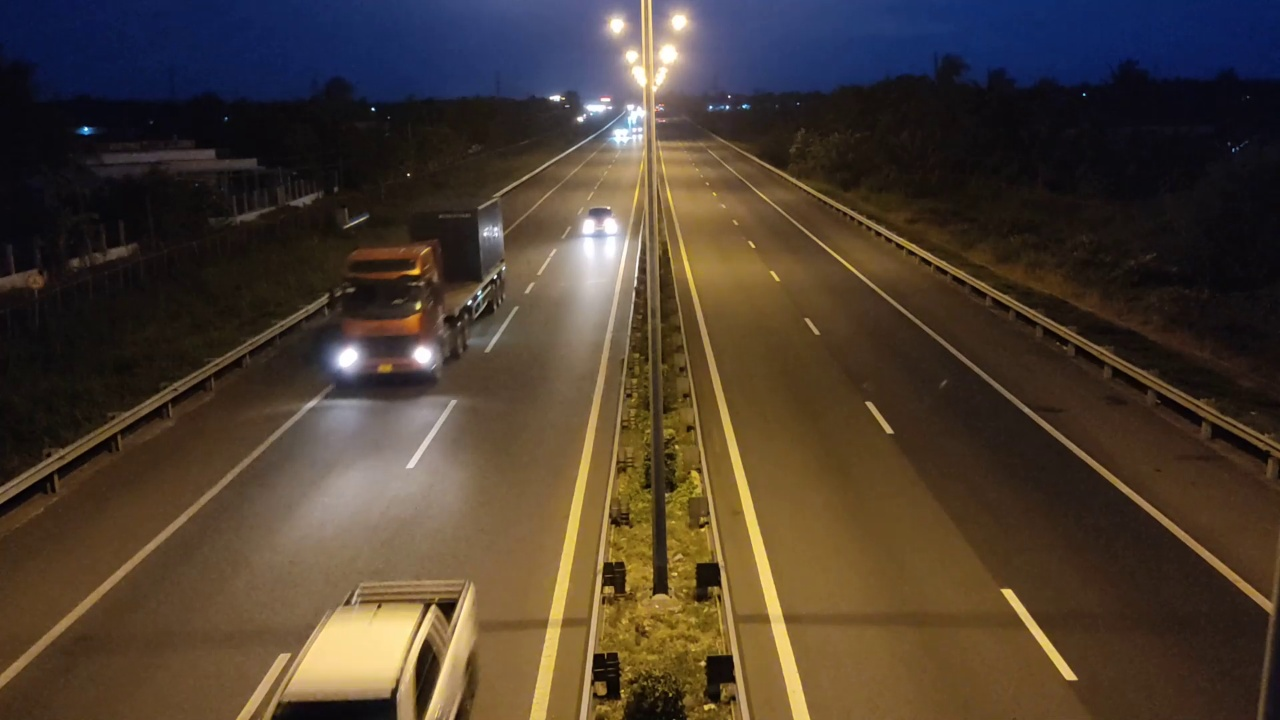truck: (321, 197, 508, 387)
